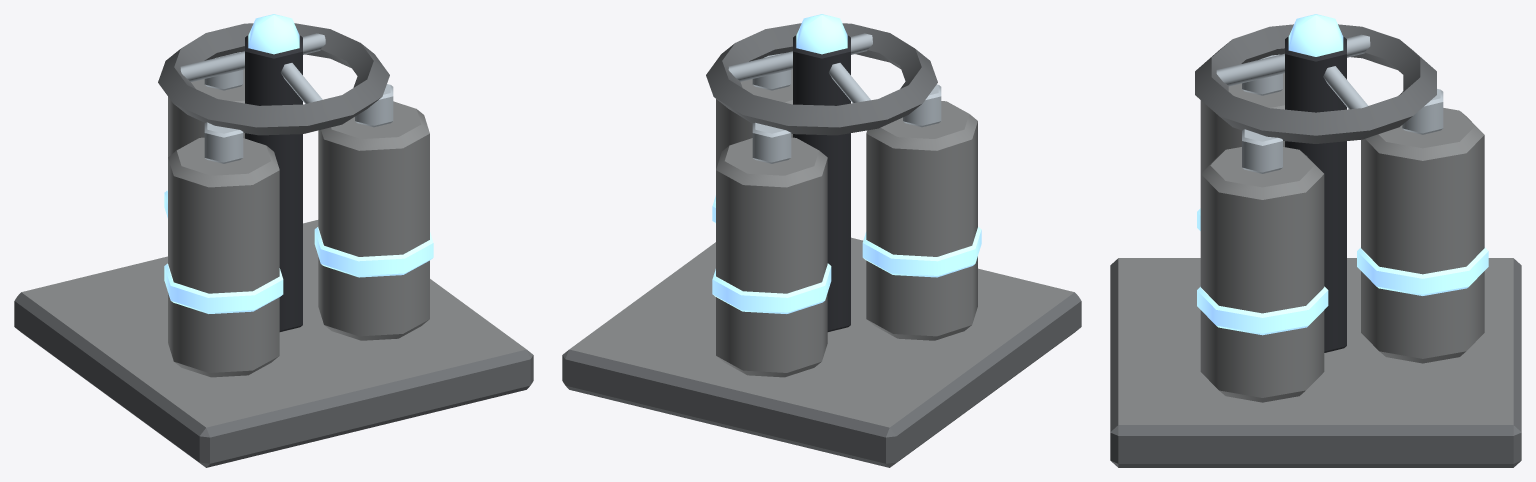
The model's file is R4X_ChargeRegenerator_LOD1.glb.
3 views of the same model, side by side, from view 1: azimuth 30°, elevation 25°; view 2: azimuth 150°, elevation 25°; view 3: azimuth 270°, elevation 25° (orthographic). The views are drawn at different scales.
Visible parts, largest first — view 1: R4X_ChargeRegenerator_LOD1; view 2: R4X_ChargeRegenerator_LOD1; view 3: R4X_ChargeRegenerator_LOD1.
Boxes of the visible parts, x1,y1,x2,y2 form: R4X_ChargeRegenerator_LOD1: (14,14,533,467); R4X_ChargeRegenerator_LOD1: (562,14,1081,467); R4X_ChargeRegenerator_LOD1: (1110,14,1521,467).
Size of the model in its own units: 0.52 by 0.515 by 0.52.
